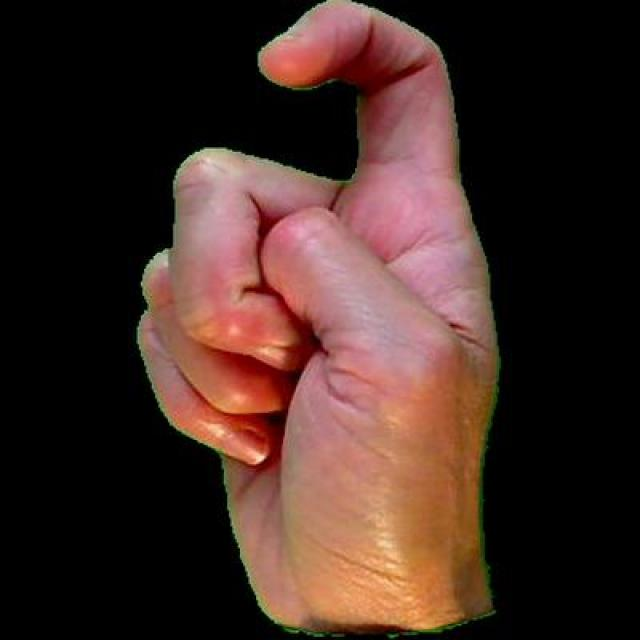x: (125, 0, 510, 637)
